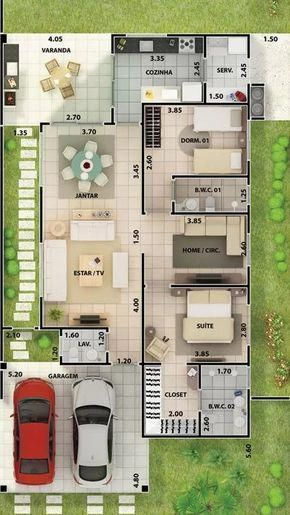room: (1, 33, 114, 125), (142, 284, 249, 364), (142, 102, 251, 178)
